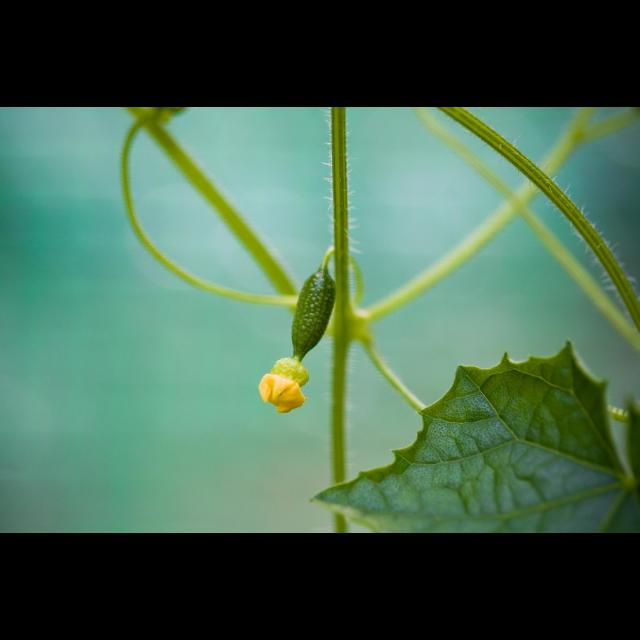Flower: (254, 354, 312, 424)
